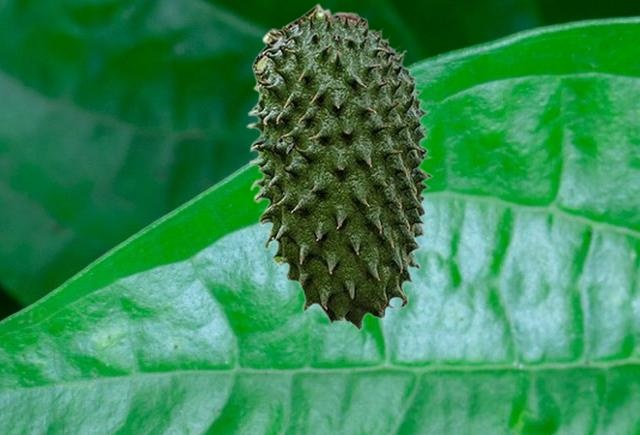guyabano: (246, 2, 433, 330)
